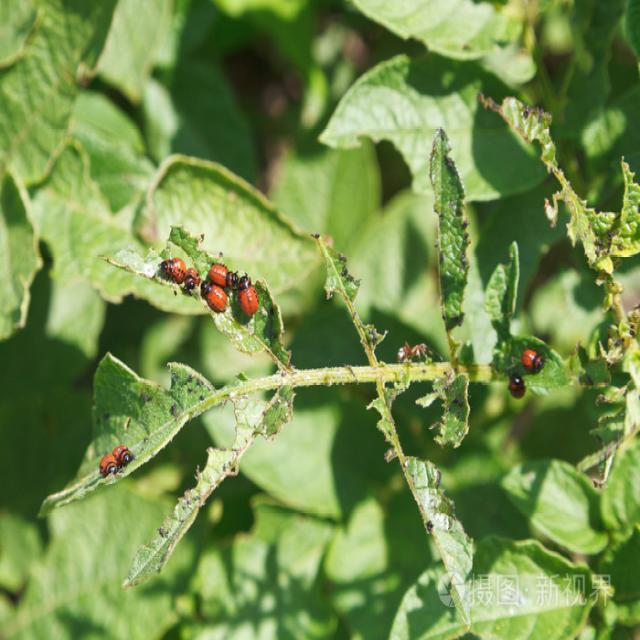ShuCaiHuaBanChong-Larva-: (234, 264, 260, 322), (198, 281, 232, 322), (158, 252, 190, 288), (206, 258, 236, 295), (518, 345, 548, 379), (110, 434, 138, 467), (92, 450, 117, 478)
